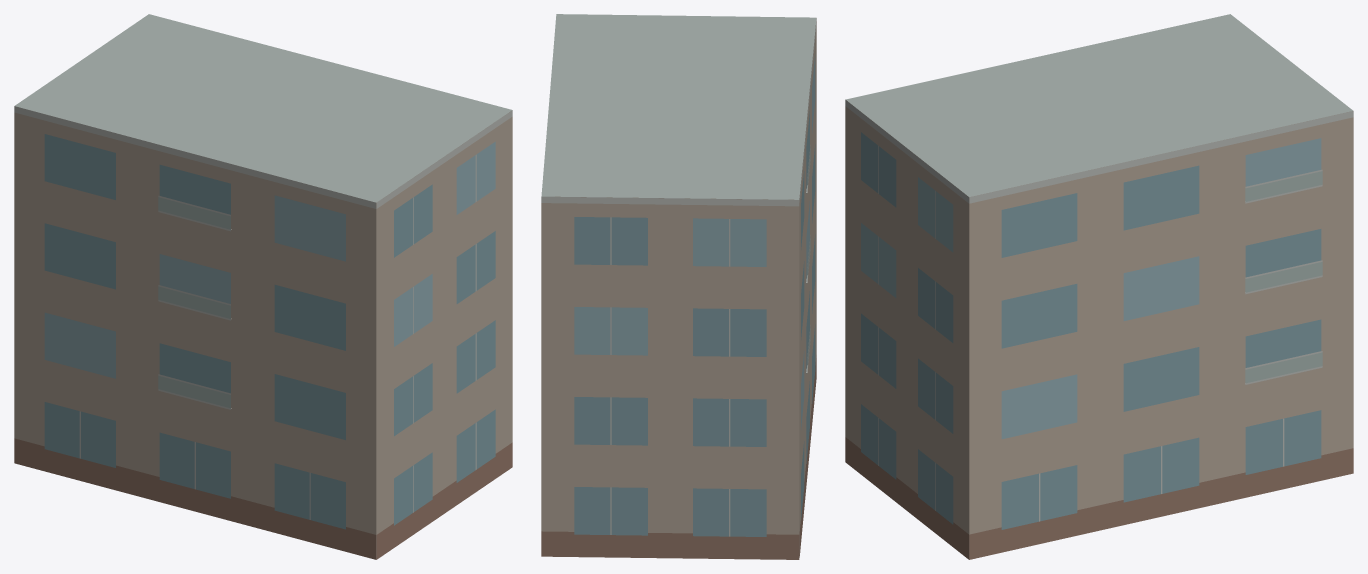
The model's file is survey-upis-32887564.glb.
3 views of the same model, side by side, from view 1: azimuth 30°, elevation 25°; view 2: azimuth 150°, elevation 25°; view 3: azimuth 270°, elevation 25° (orthographic).
Parts seen in each view (by area): view 1: survey-upis-32887564.tmp; view 2: survey-upis-32887564.tmp; view 3: survey-upis-32887564.tmp.
Boxes of the visible parts, box(x1,y1,x2,y2) form: survey-upis-32887564.tmp: box(14, 14, 512, 559); survey-upis-32887564.tmp: box(541, 14, 816, 559); survey-upis-32887564.tmp: box(845, 14, 1353, 559).
Size of the model in its own units: 14.69 by 13.55 by 17.21.
